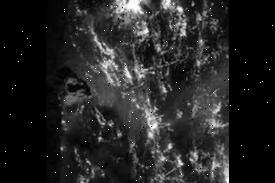fire: (54, 0, 229, 183)
